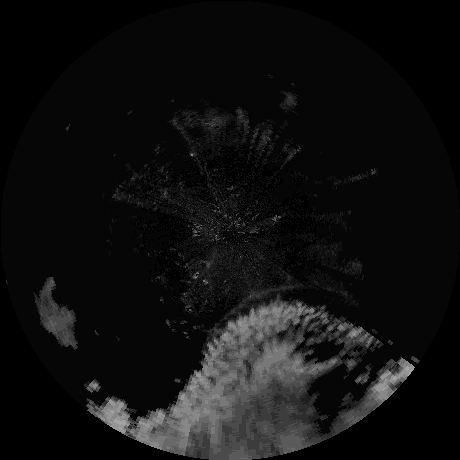frontgust: (223, 281, 308, 317)
